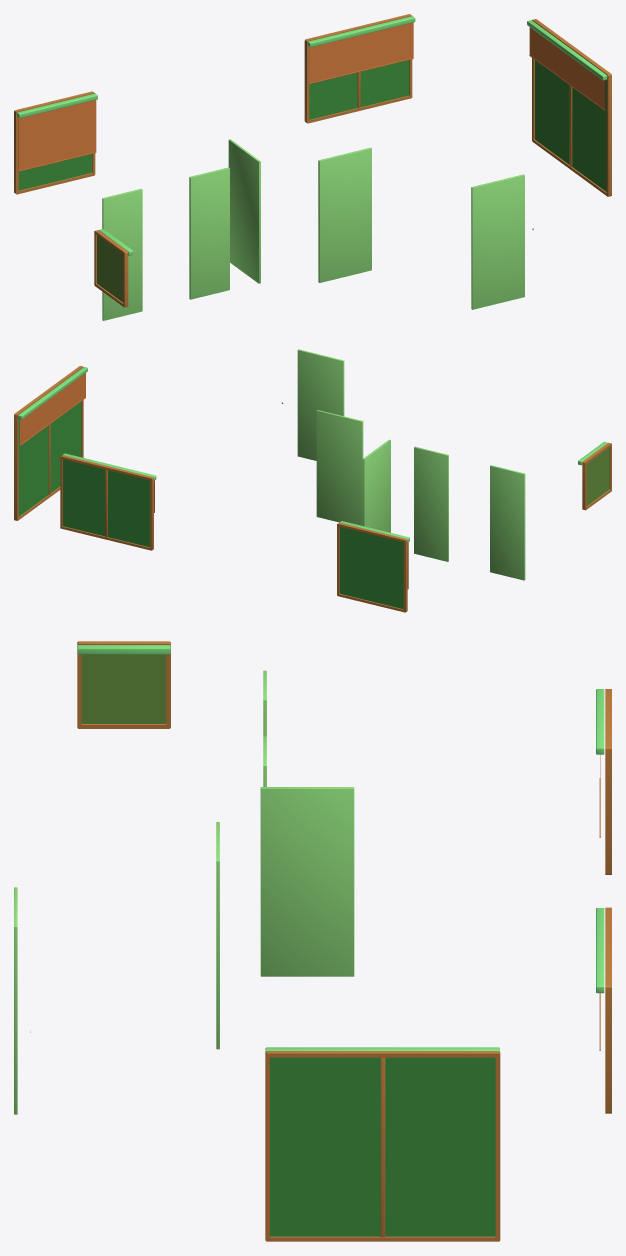
Rendered from structure.glb.
The picture shows the model from 3 angles, top to bottom: view 1: azimuth 30°, elevation 25°; view 2: azimuth 150°, elevation 25°; view 3: azimuth 270°, elevation 25°; orthographic projection. The views are drawn at different scales.
Visible parts, largest first — view 1: PORTE_Paliere_Galandage.001, PORTE_WC_Galandage.001, FEN_SEJ_Est_Vitrage.001, PORTE_Baie_SDB_Droit.001, FEN_CH_Nord_Store_Toile.001, PORTE_Chambre_Galandage.001, FEN_SEJ_Nord_Store_Toile.001, FEN_SEJ_Nord_Vitrage.001, PORTE_Baie_SDB_Gauche.001, FEN_SEJ_Est_Store_Toile.001, FEN_SEJ_Est_Cadre.001, FEN_CH_Nord_Vitrage.001 (+7 smaller); view 2: FEN_SEJ_Nord_Vitrage.001, PORTE_WC_Galandage.001, FEN_CH_Nord_Vitrage.001, FEN_SEJ_Est_Vitrage.001, PORTE_Baie_SDB_Gauche.001, PORTE_Baie_SDB_Droit.001, PORTE_Paliere_Galandage.001, PORTE_Chambre_Galandage.001, FEN_SEJ_Est_Store_Toile.001, FEN_SEJ_Nord_Cadre.001, FEN_SEJ_Est_Cadre.001, FEN_CH_Nord_Cadre.001 (+3 smaller); view 3: FEN_SEJ_Est_Vitrage.001, PORTE_Chambre_Galandage.001, FEN_SDB_Ouest_Vitrage.001, FEN_SEJ_Est_Cadre.001, FEN_SDB_Ouest_Cadre.001, FEN_SEJ_Nord_Cadre.001, FEN_CH_Nord_Cadre.001, FEN_SEJ_Est_Meneau.001, FEN_SEJ_Est_Store_Coffre.001, FEN_SDB_Ouest_Store_Coffre.001, PORTE_Paliere_Galandage.001, PORTE_WC_Galandage.001.
Boxes of the visible parts, left/top/right/bottom form: PORTE_Paliere_Galandage.001: left=471, top=174, right=524, bottom=309; PORTE_WC_Galandage.001: left=318, top=147, right=371, bottom=282; FEN_SEJ_Est_Vitrage.001: left=535, top=60, right=606, bottom=191; PORTE_Baie_SDB_Droit.001: left=189, top=167, right=229, bottom=299; FEN_CH_Nord_Store_Toile.001: left=18, top=100, right=96, bottom=170; PORTE_Chambre_Galandage.001: left=228, top=139, right=260, bottom=283; FEN_SEJ_Nord_Store_Toile.001: left=309, top=22, right=413, bottom=82; FEN_SEJ_Nord_Vitrage.001: left=309, top=60, right=409, bottom=119; PORTE_Baie_SDB_Gauche.001: left=102, top=188, right=142, bottom=320; FEN_SEJ_Est_Store_Toile.001: left=529, top=27, right=604, bottom=109; FEN_SEJ_Est_Cadre.001: left=532, top=19, right=611, bottom=196; FEN_CH_Nord_Vitrage.001: left=18, top=154, right=91, bottom=190; FEN_SEJ_Nord_Vitrage.001: left=63, top=459, right=149, bottom=547; PORTE_WC_Galandage.001: left=316, top=410, right=363, bottom=525; FEN_CH_Nord_Vitrage.001: left=339, top=527, right=403, bottom=609; FEN_SEJ_Est_Vitrage.001: left=18, top=402, right=81, bottom=516; PORTE_Baie_SDB_Gauche.001: left=490, top=465, right=525, bottom=580; PORTE_Baie_SDB_Droit.001: left=414, top=446, right=448, bottom=561; PORTE_Paliere_Galandage.001: left=297, top=349, right=344, bottom=460; PORTE_Chambre_Galandage.001: left=362, top=439, right=390, bottom=532; FEN_SEJ_Est_Store_Toile.001: left=20, top=373, right=85, bottom=444; FEN_SEJ_Nord_Cadre.001: left=60, top=455, right=153, bottom=550; FEN_SEJ_Est_Cadre.001: left=14, top=366, right=83, bottom=520; FEN_CH_Nord_Cadre.001: left=337, top=522, right=407, bottom=612; FEN_SEJ_Est_Vitrage.001: left=270, top=1057, right=495, bottom=1236; PORTE_Chambre_Galandage.001: left=260, top=787, right=354, bottom=976; FEN_SDB_Ouest_Vitrage.001: left=81, top=654, right=166, bottom=723; FEN_SEJ_Est_Cadre.001: left=265, top=1051, right=500, bottom=1241; FEN_SDB_Ouest_Cadre.001: left=77, top=641, right=170, bottom=728; FEN_SEJ_Nord_Cadre.001: left=605, top=907, right=611, bottom=1113; FEN_CH_Nord_Cadre.001: left=605, top=689, right=611, bottom=874; FEN_SEJ_Est_Meneau.001: left=380, top=1057, right=385, bottom=1237; FEN_SEJ_Est_Store_Coffre.001: left=265, top=1047, right=499, bottom=1051; FEN_SDB_Ouest_Store_Coffre.001: left=77, top=645, right=170, bottom=654; PORTE_Paliere_Galandage.001: left=14, top=887, right=17, bottom=1114; PORTE_WC_Galandage.001: left=216, top=822, right=219, bottom=1049.
Size of the model in its own units: 10.37 by 2.21 by 6.36.
